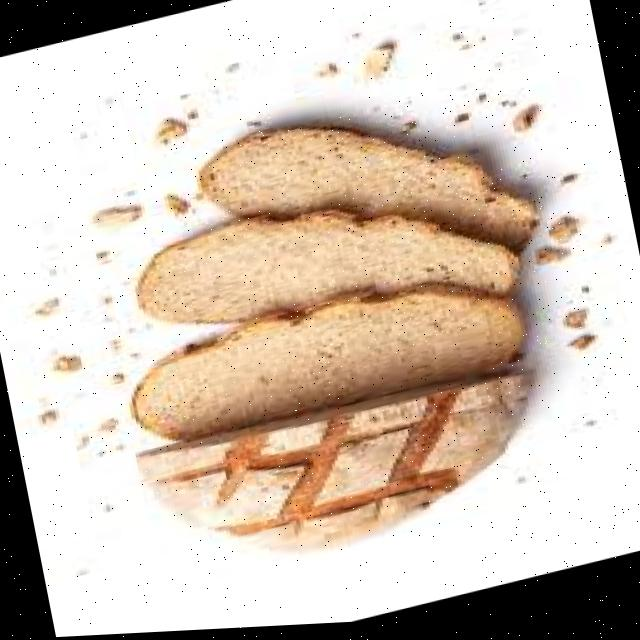Bread: (133, 289, 519, 441), (137, 213, 517, 324), (200, 132, 535, 254)
